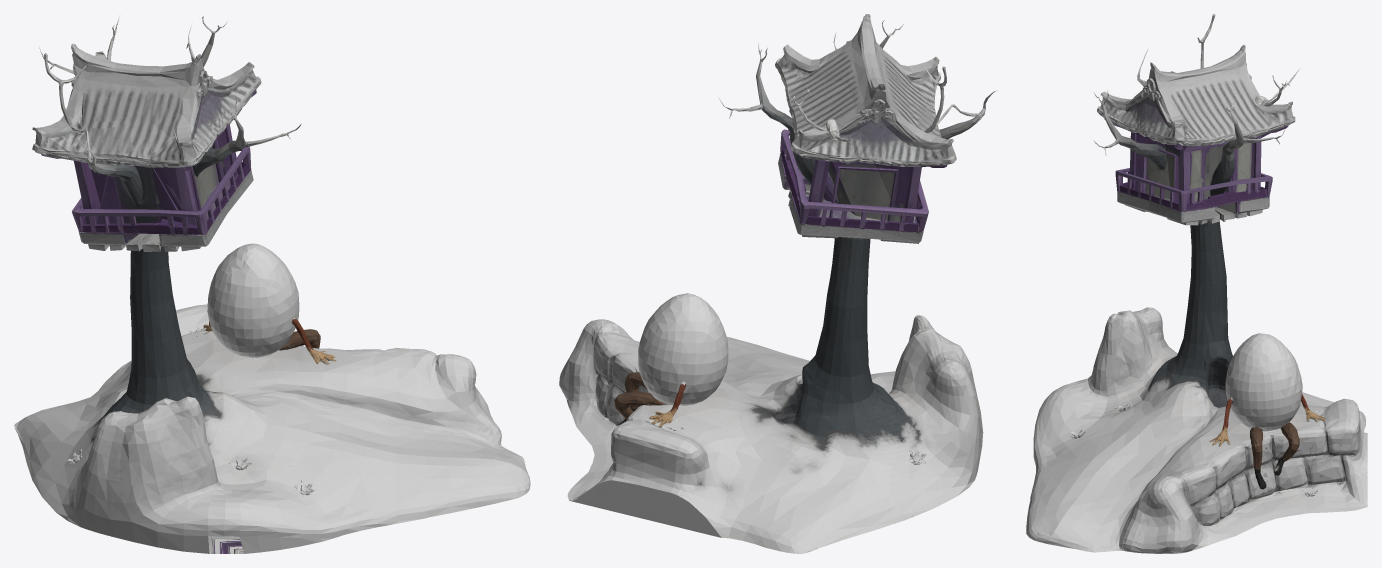
File: life.glb
The picture shows the model from 3 angles, left to right: view 1: azimuth 30°, elevation 25°; view 2: azimuth 150°, elevation 25°; view 3: azimuth 270°, elevation 25°; orthographic projection. The views are drawn at different scales.
Visible parts, largest first — view 1: life; view 2: life; view 3: life.
Part boxes in pixels (left/top/right/bottom): life: left=14, top=16, right=530, bottom=553; life: left=559, top=14, right=995, bottom=553; life: left=1026, top=14, right=1367, bottom=553.
Bounding box in the file's own units: 0.998 × 0.9941 × 0.8223.
1 material, 1 textured.
